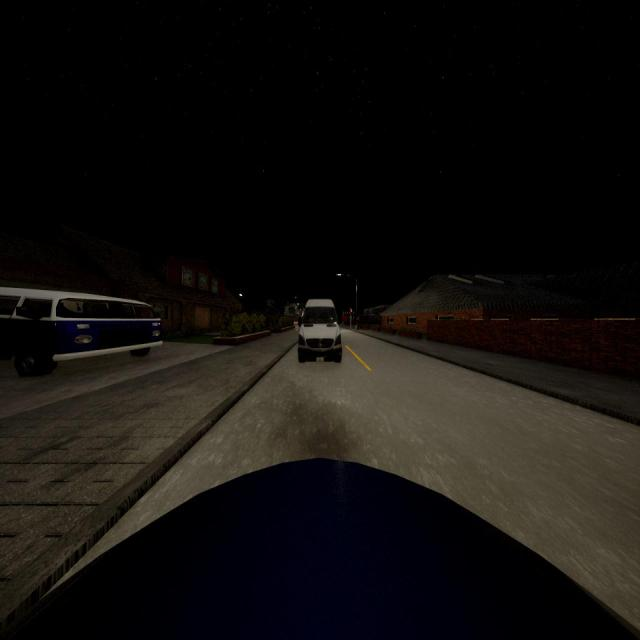Vehicle: (1, 459, 640, 640), (0, 286, 163, 377), (298, 299, 342, 362)
traffic_light: (350, 310, 352, 316)
